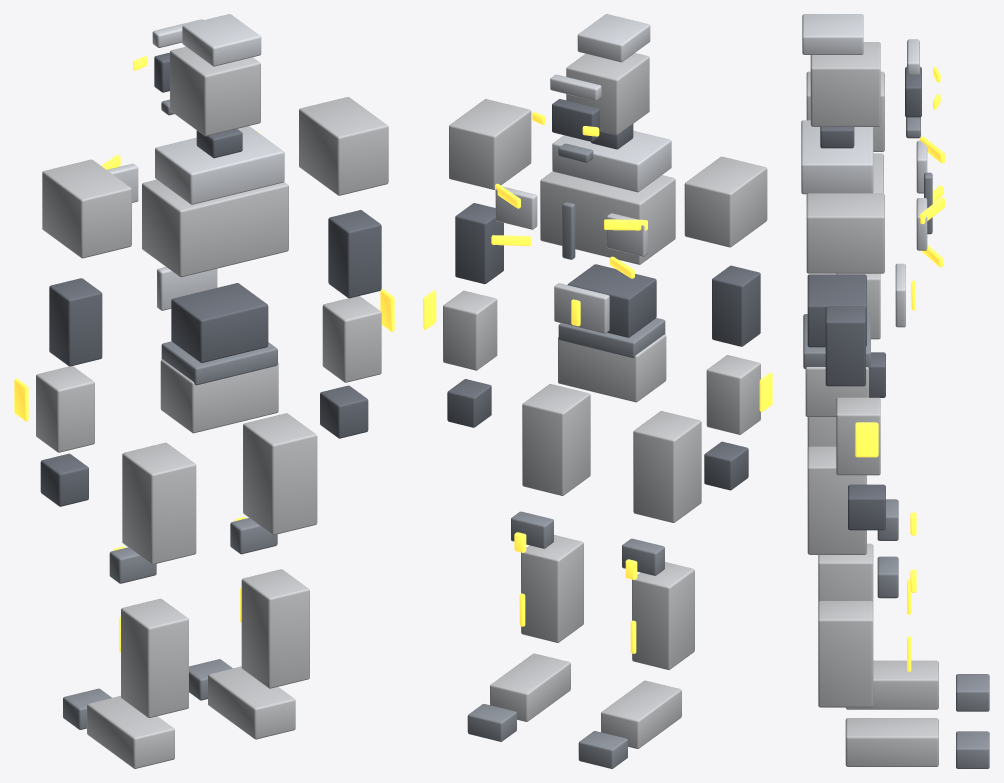
The model's file is spartan.glb.
3 views of the same model, side by side, from view 1: azimuth 30°, elevation 25°; view 2: azimuth 150°, elevation 25°; view 3: azimuth 270°, elevation 25° (orthographic). The views are drawn at different scales.
Visible parts, largest first — view 1: Spartan; view 2: Spartan; view 3: Spartan.
Part boxes in pixels (x1=…): Spartan: x1=14, y1=14, x2=394, y2=768; Spartan: x1=423, y1=14, x2=772, y2=768; Spartan: x1=801, y1=14, x2=989, y2=768.
Bounding box in the file's own units: 0.98 × 1.84 × 0.445.
